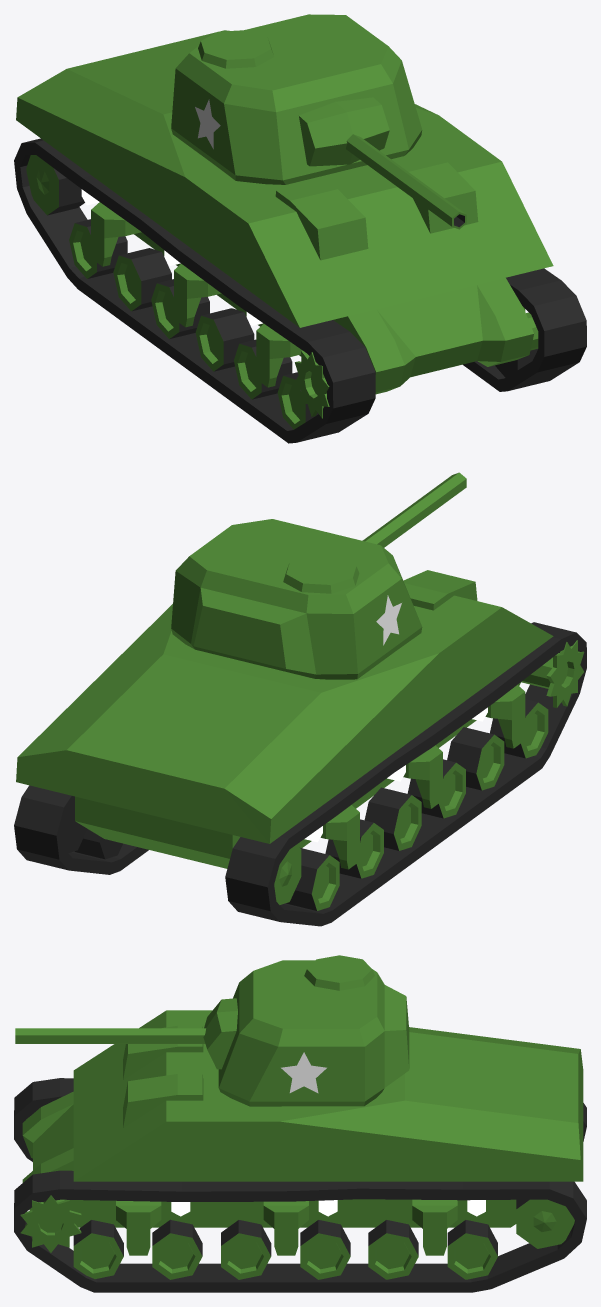
File: ww2-sherman.glb
3 renders of one model, top to bottom at view 1: azimuth 30°, elevation 25°; view 2: azimuth 150°, elevation 25°; view 3: azimuth 270°, elevation 25°, orthographic. The views are drawn at different scales.
Visible parts, largest first — view 1: sherman-body, sherman-head, sherman-belt, sherman-gun, sherman-wheel4, sherman-wheel6, sherman-wheel8, sherman-wheel1, sherman-wheel2, sherman-wheel3, sherman-wheel5, sherman-wheel7; view 2: sherman-body, sherman-head, sherman-belt, sherman-wheel7, sherman-wheel3, sherman-wheel5, sherman-gun, sherman-wheel1, sherman-wheel8, sherman-wheel2, sherman-wheel6, sherman-wheel4; view 3: sherman-body, sherman-belt, sherman-head, sherman-gun, sherman-wheel7, sherman-wheel5, sherman-wheel6, sherman-wheel3, sherman-wheel4, sherman-wheel2, sherman-wheel8, sherman-wheel1.
Part boxes in pixels (x1=…): sherman-body: x1=16, y1=30, x2=553, y2=394; sherman-head: x1=171, y1=14, x2=422, y2=184; sherman-belt: x1=14, y1=138, x2=586, y2=443; sherman-gun: x1=299, y1=97, x2=466, y2=229; sherman-wheel4: x1=195, y1=308, x2=254, y2=371; sherman-wheel6: x1=113, y1=248, x2=171, y2=311; sherman-wheel8: x1=26, y1=155, x2=84, y2=215; sherman-wheel1: x1=294, y1=312, x2=538, y2=418; sherman-wheel2: x1=277, y1=349, x2=537, y2=429; sherman-wheel3: x1=234, y1=339, x2=292, y2=399; sherman-wheel5: x1=151, y1=279, x2=209, y2=338; sherman-wheel7: x1=69, y1=219, x2=127, y2=278; sherman-body: x1=16, y1=570, x2=553, y2=869; sherman-head: x1=171, y1=519, x2=422, y2=679; sherman-belt: x1=14, y1=622, x2=586, y2=926; sherman-wheel7: x1=74, y1=829, x2=339, y2=910; sherman-wheel3: x1=447, y1=727, x2=504, y2=790; sherman-wheel5: x1=364, y1=787, x2=421, y2=850; sherman-gun: x1=362, y1=472, x2=466, y2=547; sherman-wheel1: x1=521, y1=640, x2=584, y2=707; sherman-wheel8: x1=63, y1=804, x2=301, y2=904; sherman-wheel2: x1=490, y1=699, x2=548, y2=758; sherman-wheel6: x1=325, y1=819, x2=383, y2=878; sherman-wheel4: x1=407, y1=759, x2=465, y2=818; sherman-body: x1=22, y1=1010, x2=583, y2=1255; sherman-belt: x1=14, y1=1078, x2=586, y2=1292; sherman-head: x1=218, y1=955, x2=409, y2=1106; sherman-gun: x1=15, y1=998, x2=237, y2=1069; sherman-wheel7: x1=447, y1=1220, x2=497, y2=1279; sherman-wheel5: x1=300, y1=1220, x2=350, y2=1279; sherman-wheel6: x1=368, y1=1220, x2=418, y2=1279; sherman-wheel3: x1=152, y1=1219, x2=202, y2=1279; sherman-wheel4: x1=221, y1=1220, x2=271, y2=1279; sherman-wheel2: x1=73, y1=1220, x2=123, y2=1278; sherman-wheel8: x1=516, y1=1199, x2=574, y2=1248; sherman-wheel1: x1=20, y1=1116, x2=81, y2=1252.
Size of the model in its own units: 2.87 by 2.98 by 6.21.
